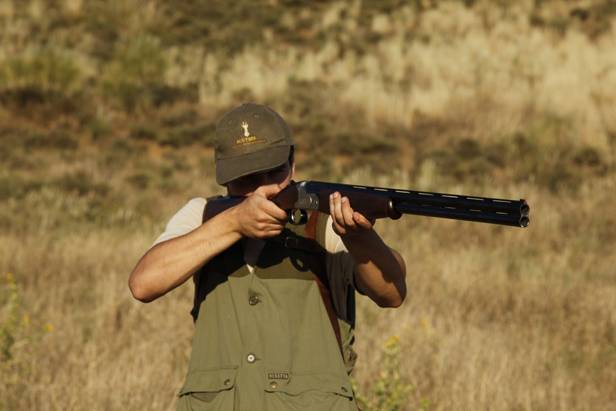weapon: (192, 180, 536, 243)
